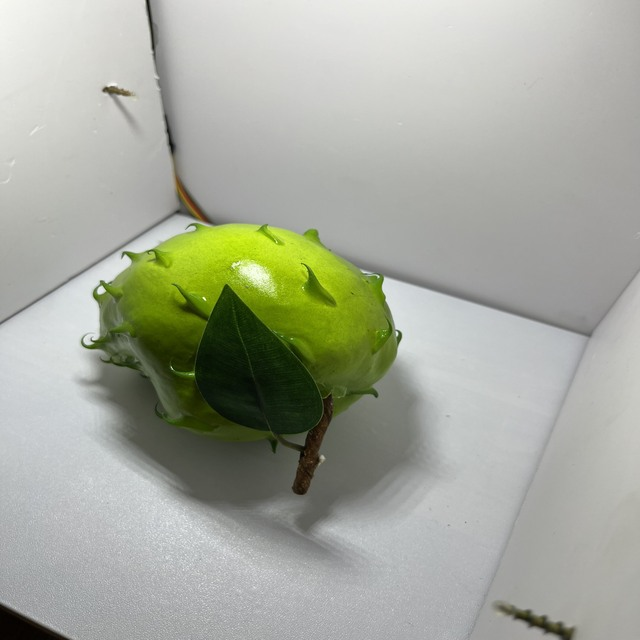Man cau: (71, 206, 417, 453)
